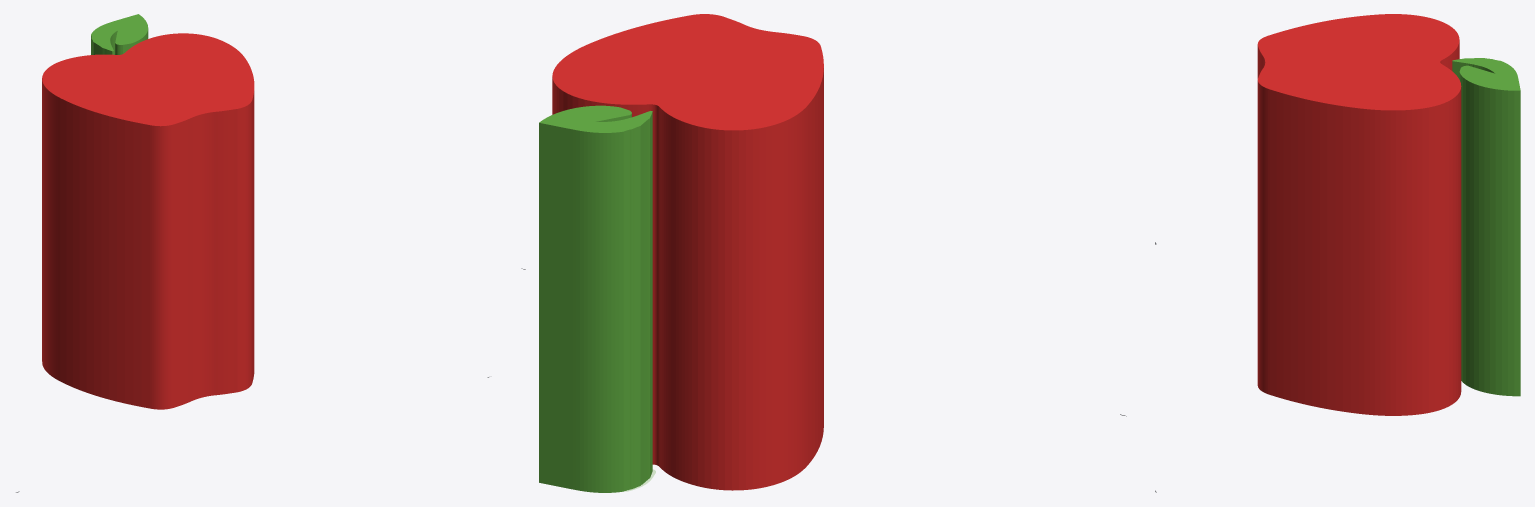
3 views of the same model, side by side, from view 1: azimuth 30°, elevation 25°; view 2: azimuth 150°, elevation 25°; view 3: azimuth 270°, elevation 25° (orthographic). The views are drawn at different scales.
Visible parts, largest first — view 1: Curve.006, Curve.007; view 2: Curve.006, Curve.007; view 3: Curve.006, Curve.007.
Boxes of the visible parts, bbox=[...] form: Curve.006: bbox=[42, 33, 254, 409]; Curve.007: bbox=[91, 14, 148, 54]; Curve.006: bbox=[552, 14, 823, 490]; Curve.007: bbox=[539, 105, 652, 492]; Curve.006: bbox=[1257, 14, 1461, 415]; Curve.007: bbox=[1452, 58, 1520, 396].
Bounding box in the file's own units: 0.1763 × 0.1 × 0.1084.
